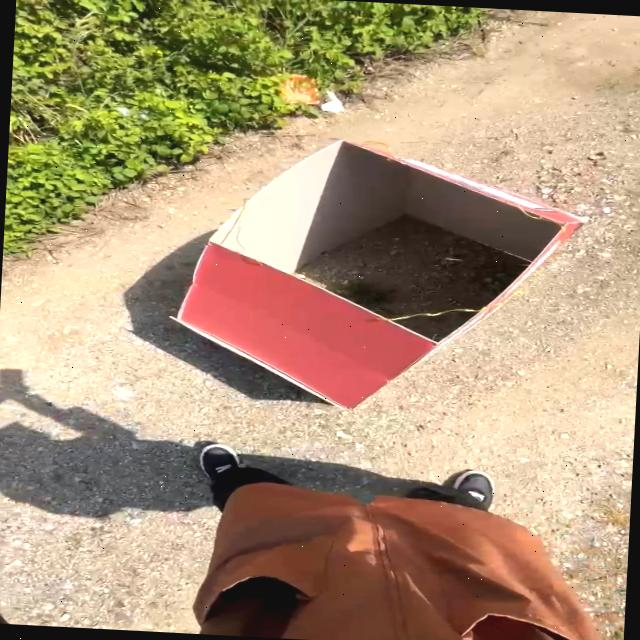red_car: (98, 110, 640, 444)
